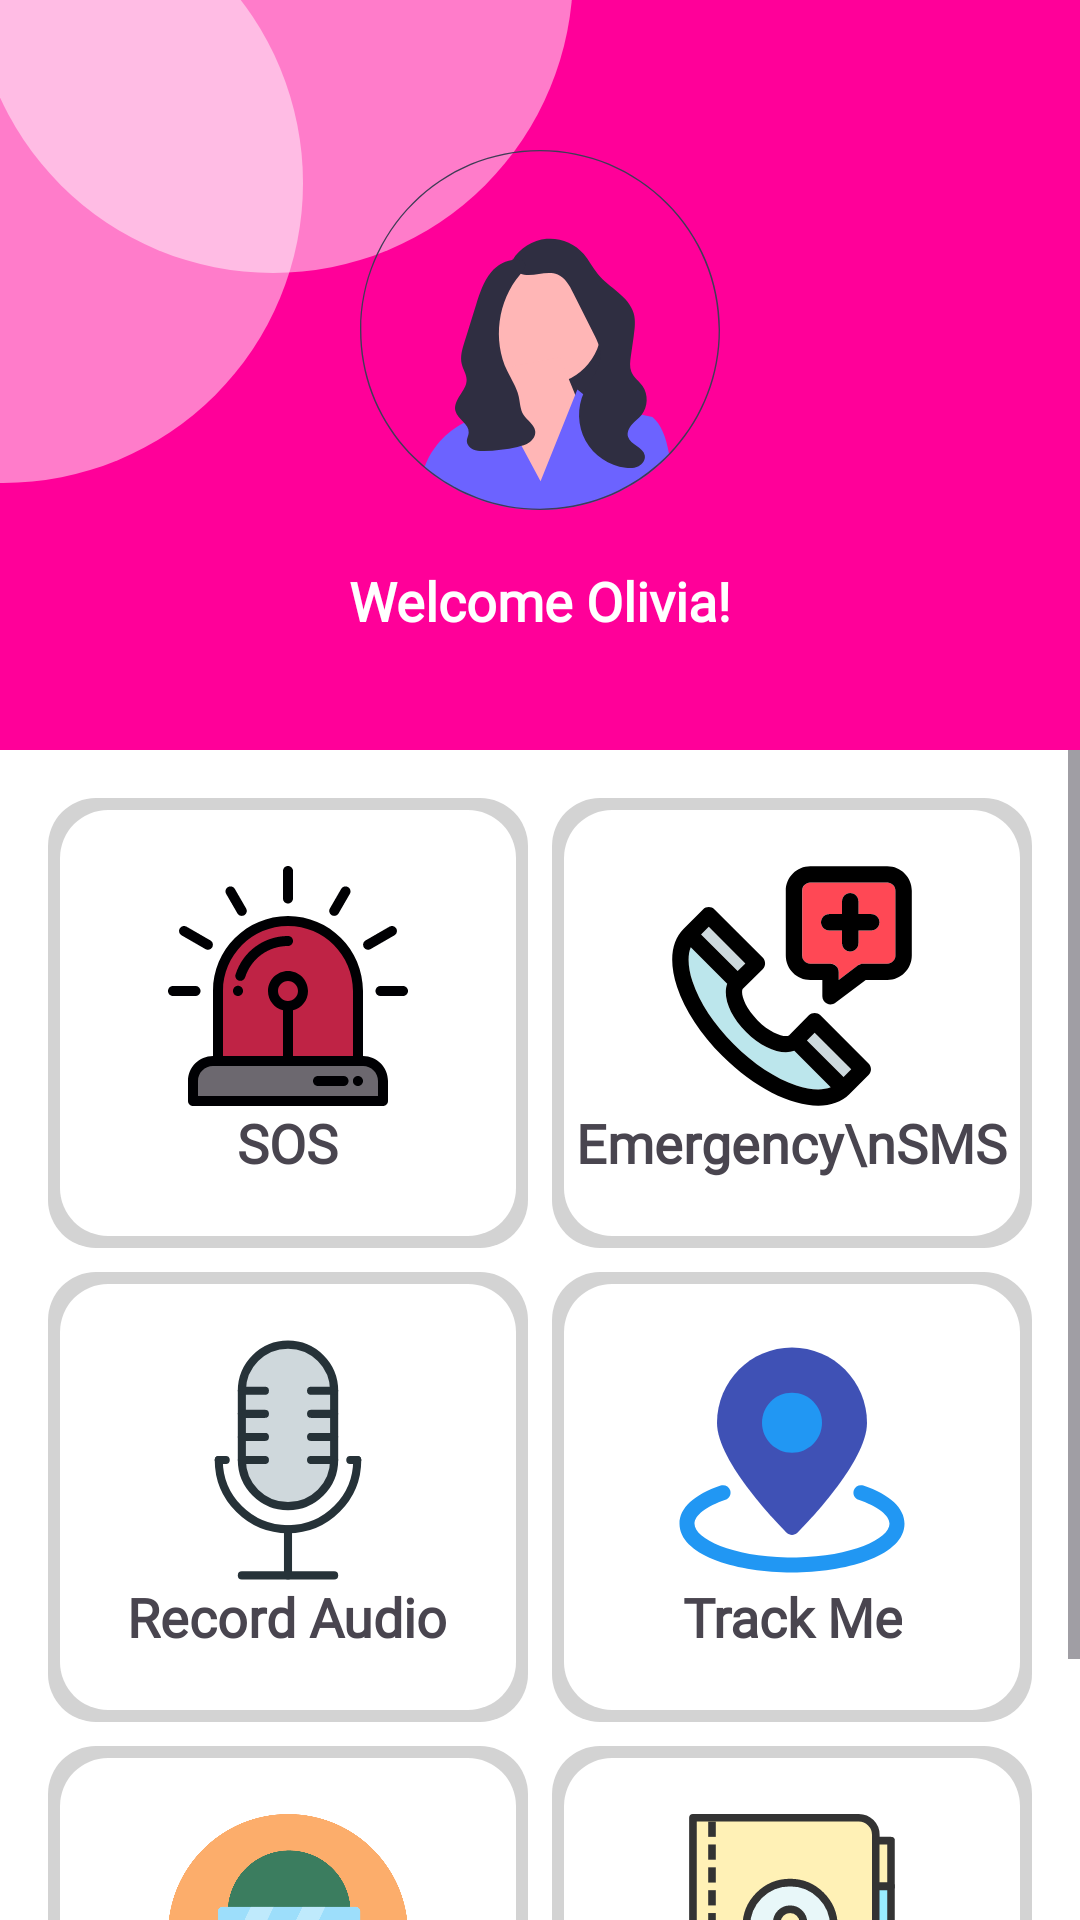

Where to tap for icons on this 1080×1920 app screen, as (x,y):
emergency call: (792,986)
mic: (288,1460)
